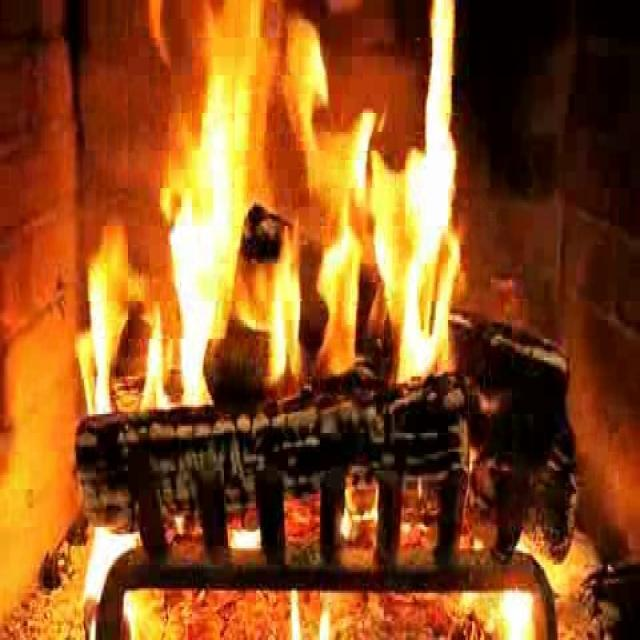Fire: (124, 19, 458, 392)
